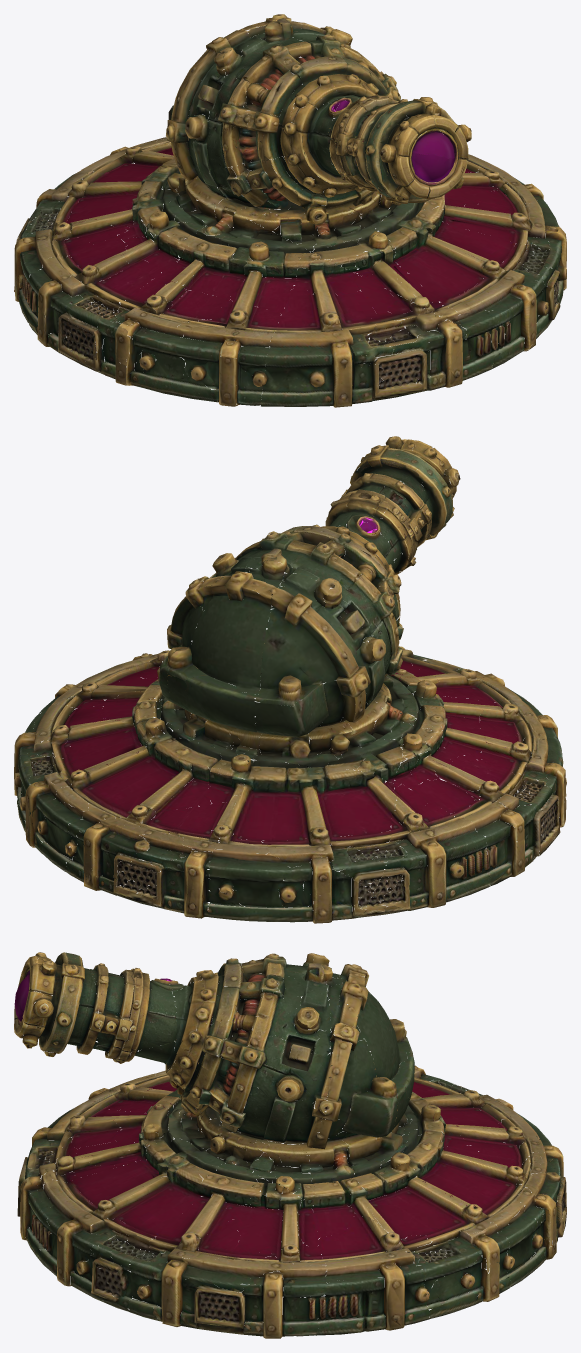
Rendered from warrior-4-tier-1.glb.
3 renders of one model, top to bottom at view 1: azimuth 30°, elevation 25°; view 2: azimuth 150°, elevation 25°; view 3: azimuth 270°, elevation 25°, orthographic.
Visible parts, largest first — view 1: fixed-platform, moving-assembly; view 2: fixed-platform, moving-assembly; view 3: fixed-platform, moving-assembly.
Boxes of the visible parts, <box> form: fixed-platform: <box>14,124,566,407</box>; moving-assembly: <box>132,14,471,269</box>; fixed-platform: <box>14,643,566,923</box>; moving-assembly: <box>132,436,460,784</box>; fixed-platform: <box>17,1057,566,1338</box>; moving-assembly: <box>14,952,445,1200</box>.
Size of the model in its own units: 0.8287 by 0.4655 by 0.8338.
Materials: 2 (2 with a texture image).
